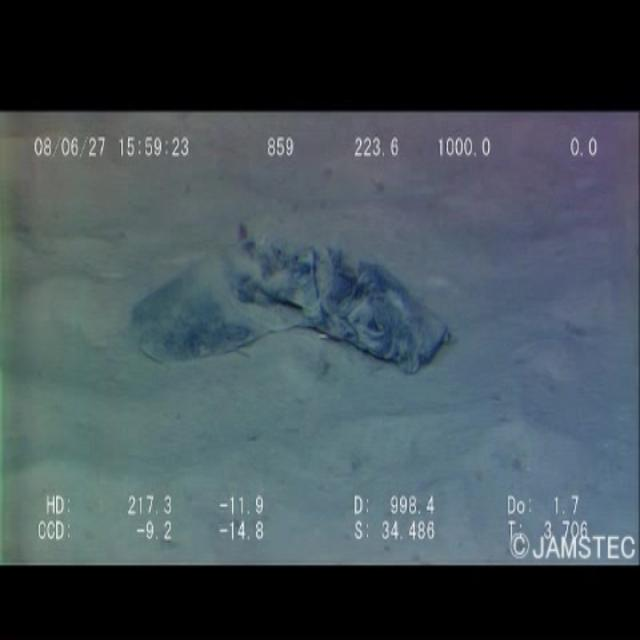Accessories: (136, 210, 458, 427)
